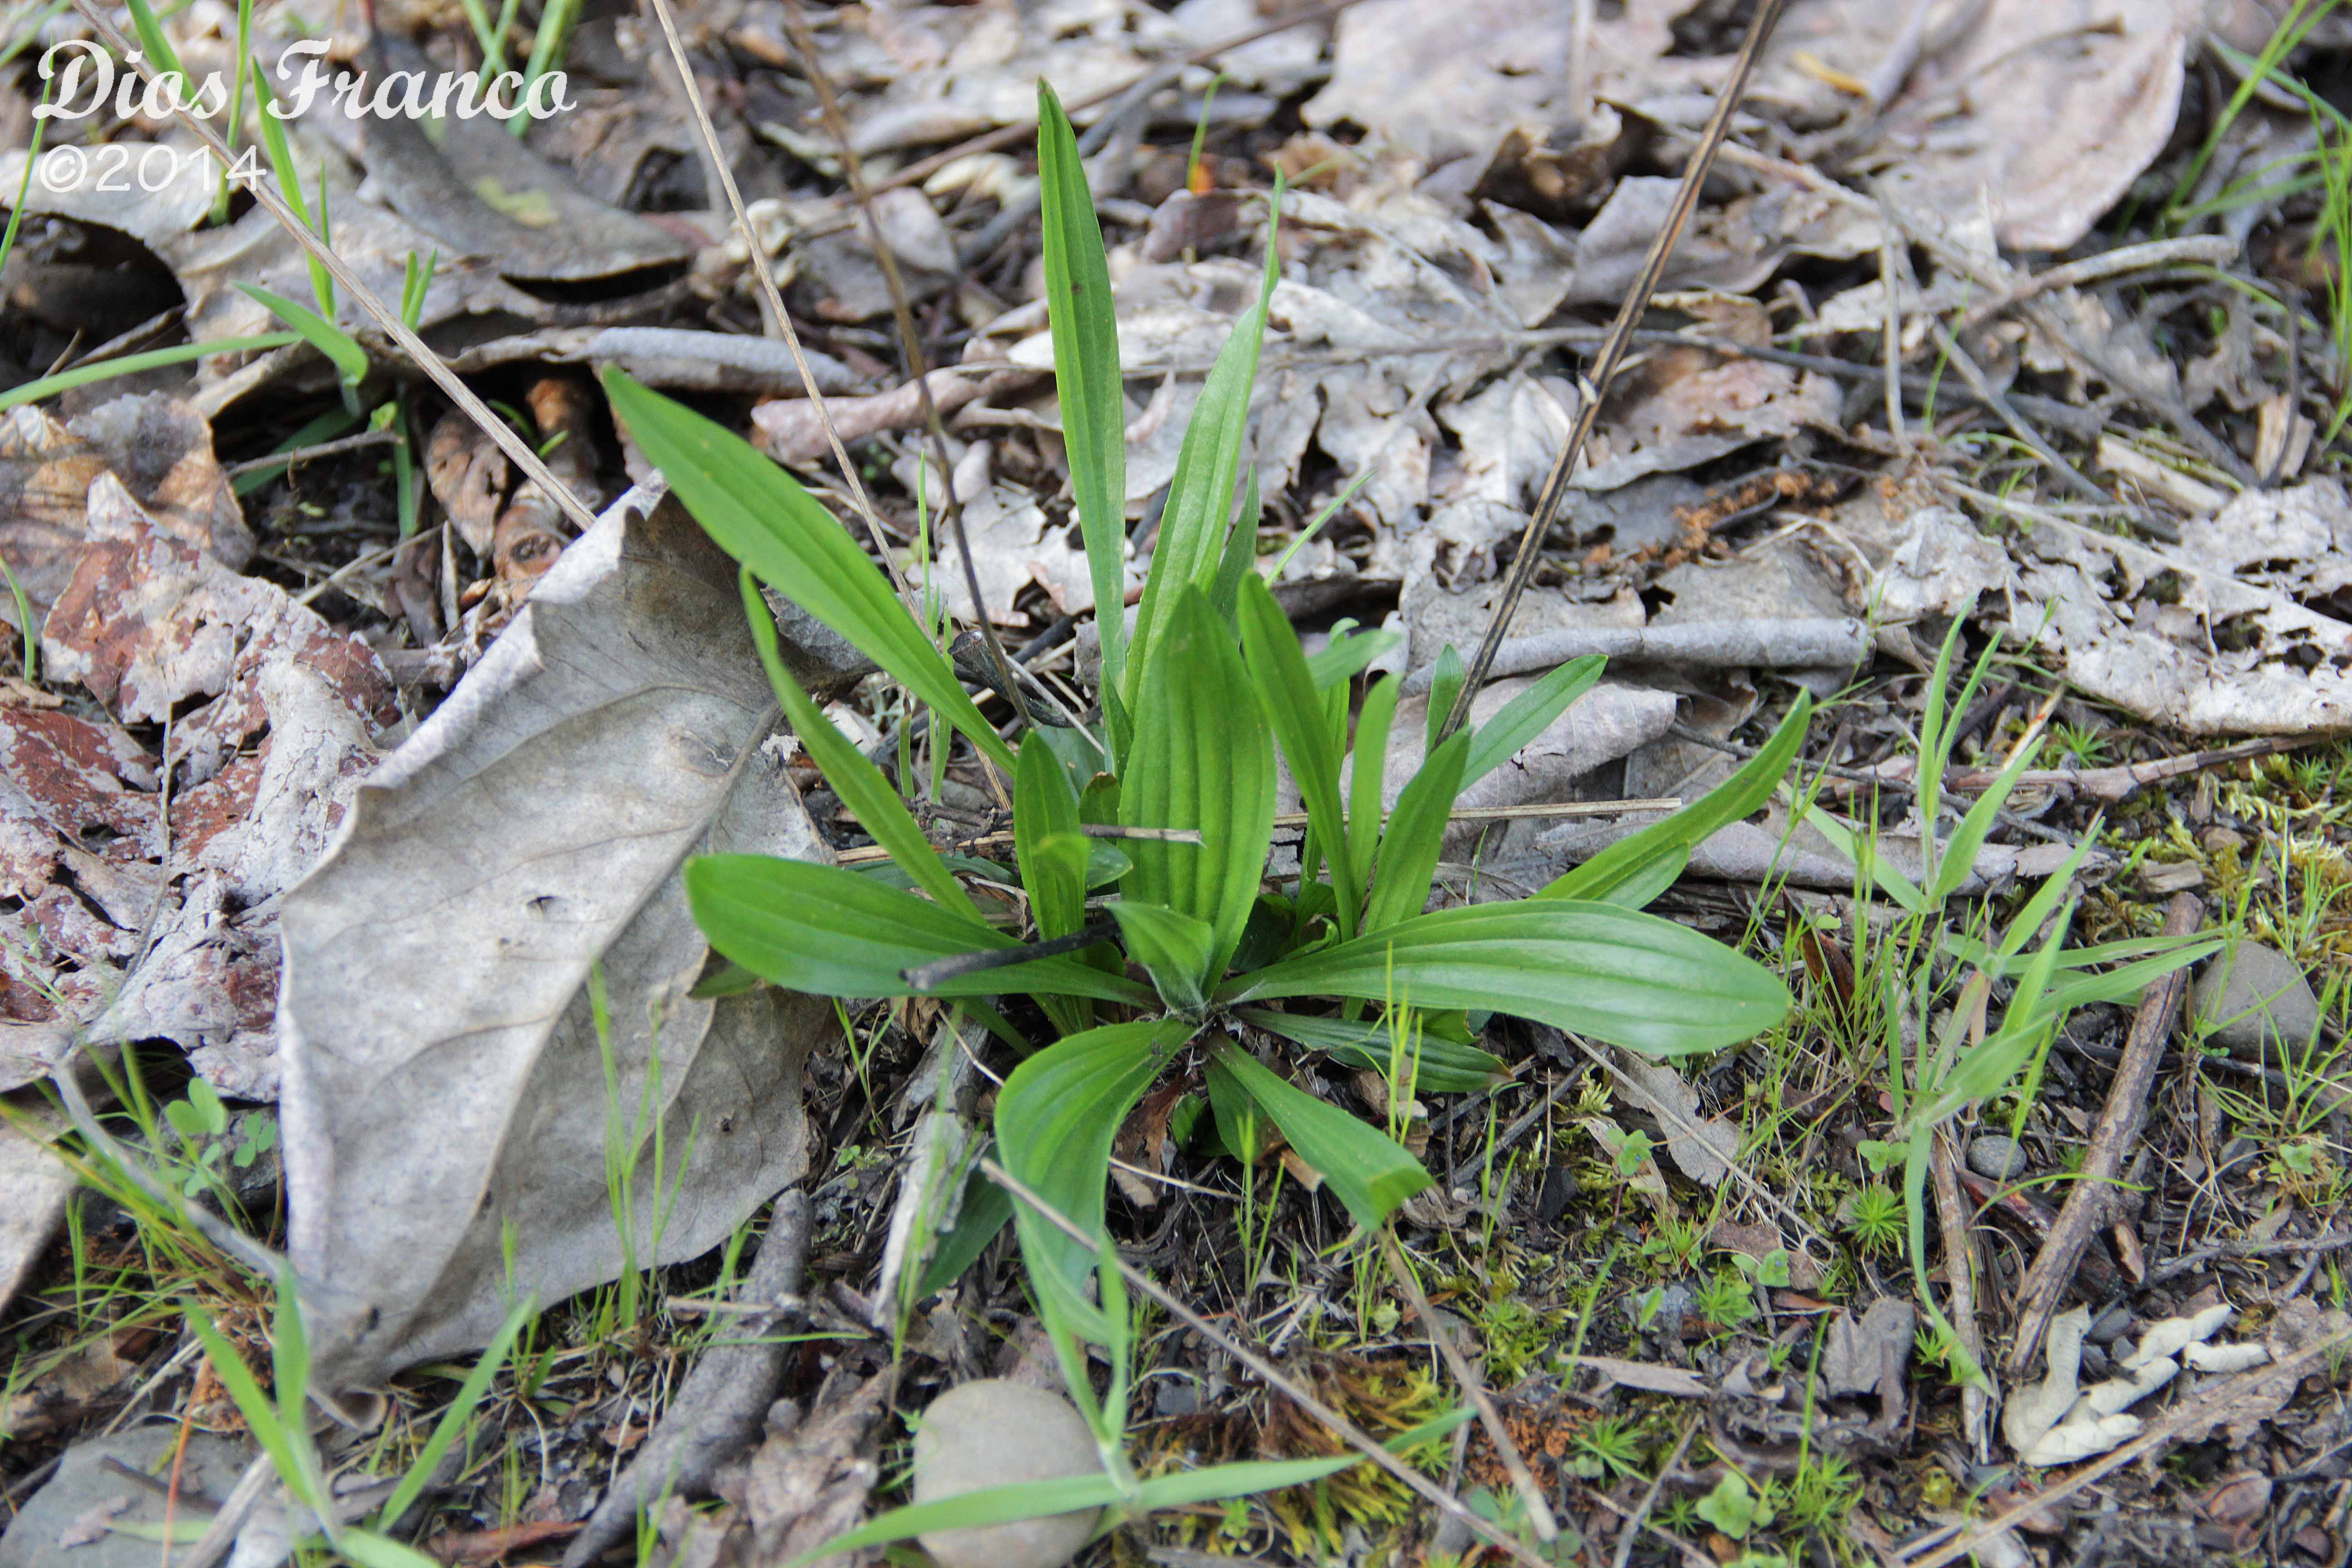buckhorn plantain: (628, 81, 1734, 1157)
